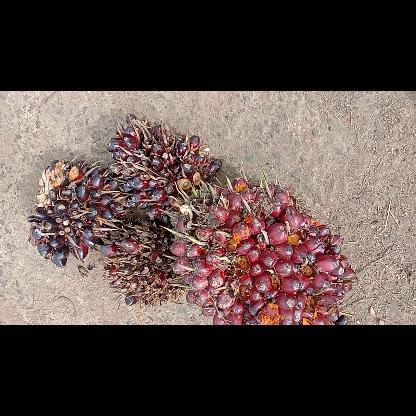TBS abnormal: (105, 115, 221, 221), (28, 160, 126, 265), (101, 219, 185, 305)
TBS masak: (169, 176, 357, 324)
